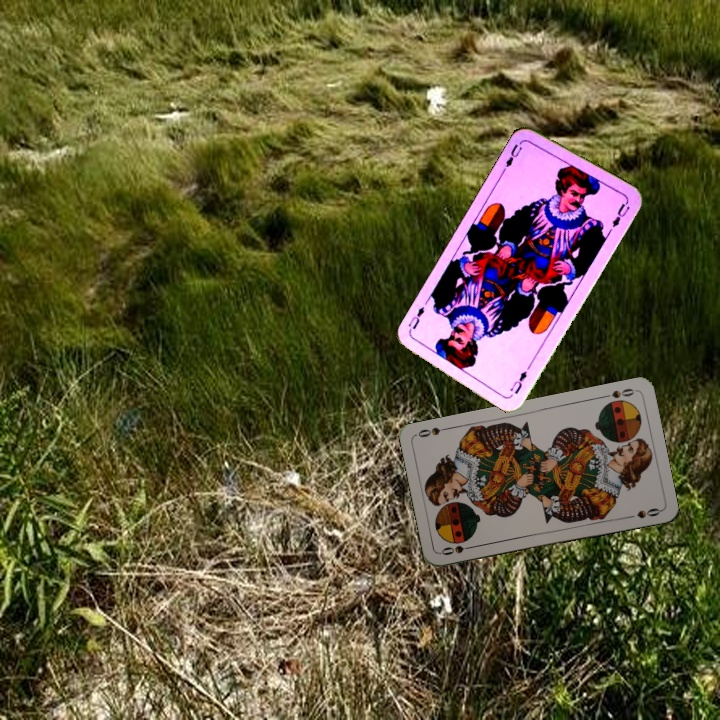EU: (499, 136, 525, 173), (506, 367, 529, 397)
SO: (437, 541, 478, 558), (598, 384, 638, 401)
